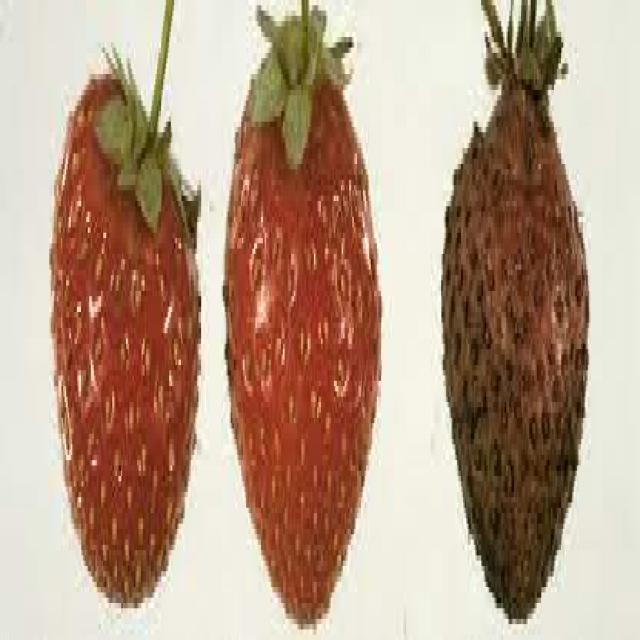Fruta sana: (228, 66, 386, 635), (46, 71, 200, 584)
Podredumbre de cuero: (442, 76, 590, 616)
